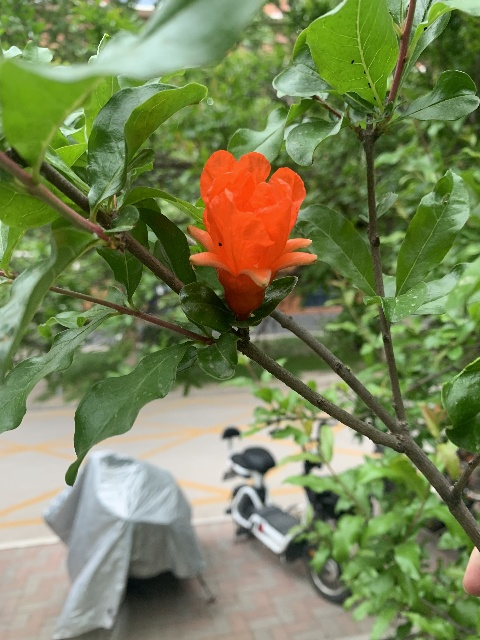flower: (187, 149, 316, 318)
